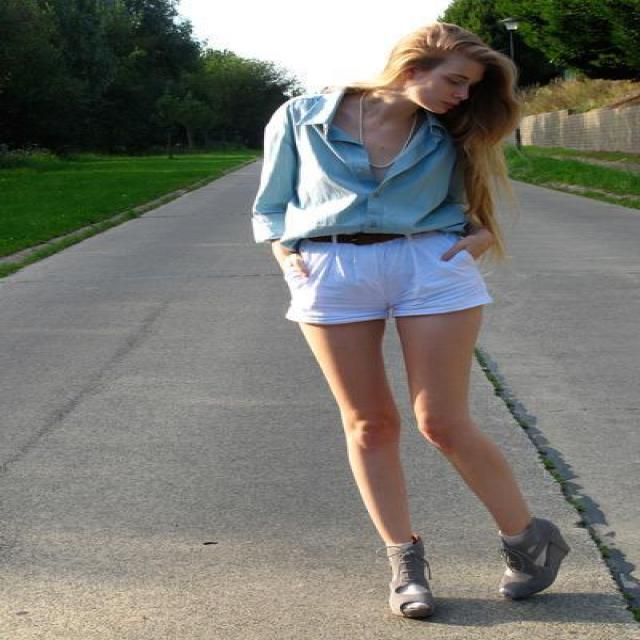shirt: (250, 78, 464, 254)
shoe: (366, 517, 568, 622)
shorts: (272, 236, 491, 344)
